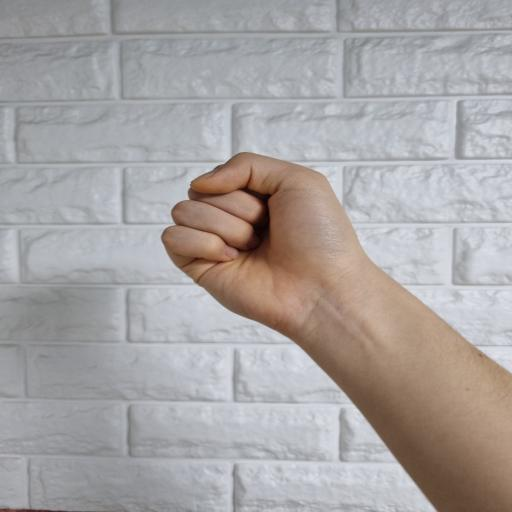Rock: (162, 153, 390, 347)
